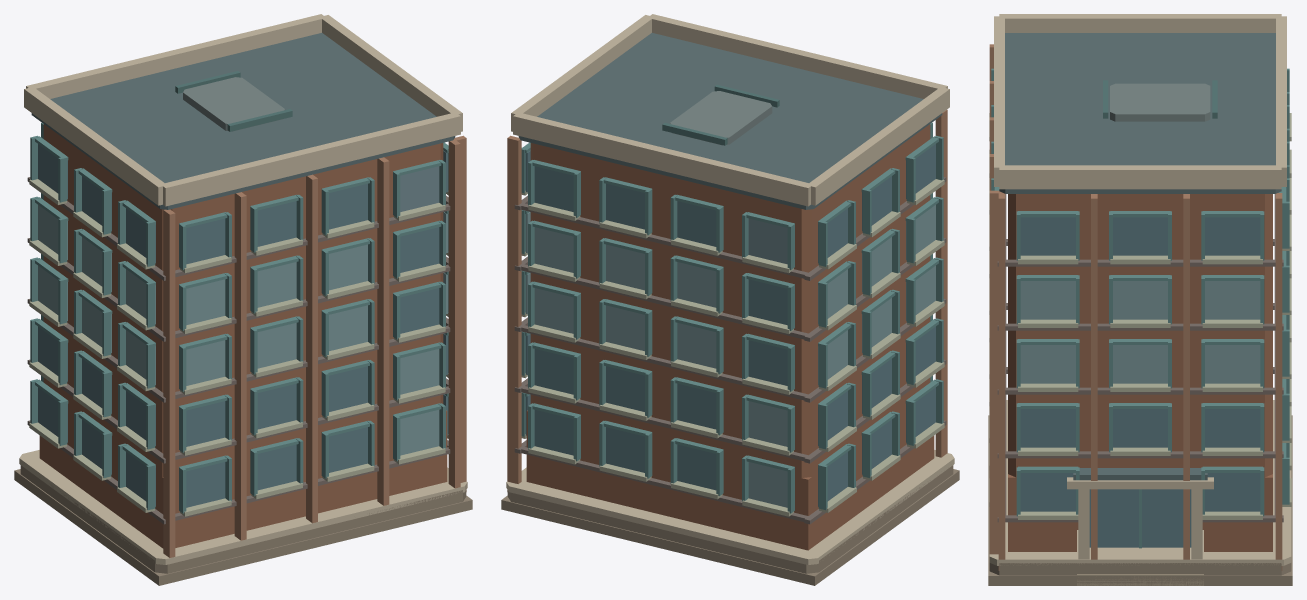
3 views of the same model, side by side, from view 1: azimuth 30°, elevation 25°; view 2: azimuth 150°, elevation 25°; view 3: azimuth 270°, elevation 25° (orthographic). The views are drawn at different scales.
Visible parts, largest first — view 1: form, relief, glaze, glowing; view 2: form, relief, glaze, glowing; view 3: form, glaze, relief, glowing.
Boxes of the visible parts, x1=… form: form: x1=14, y1=14, x2=472, y2=585; relief: x1=29, y1=123, x2=448, y2=516; glaze: x1=38, y1=144, x2=448, y2=507; glowing: x1=126, y1=244, x2=439, y2=455; form: x1=501, y1=14, x2=959, y2=585; relief: x1=521, y1=123, x2=944, y2=516; glaze: x1=525, y1=144, x2=935, y2=506; glowing: x1=525, y1=205, x2=935, y2=507; form: x1=988, y1=14, x2=1292, y2=585; glaze: x1=1020, y1=217, x2=1260, y2=547; relief: x1=989, y1=68, x2=1291, y2=548; glowing: x1=1205, y1=281, x2=1260, y2=319.
Size of the model in its own units: 10 by 12 by 8.
